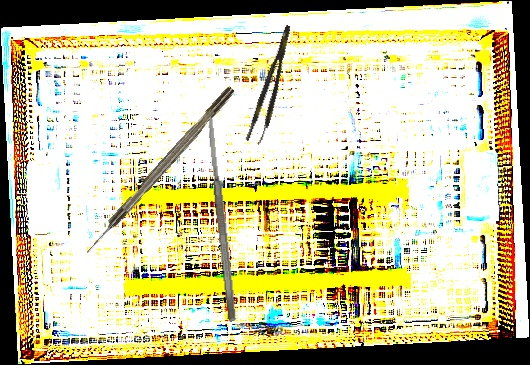Hook Surgical: (82, 85, 237, 256)
Spatula Surgical: (205, 114, 238, 323)
Tissue Forceps: (244, 24, 302, 146)
